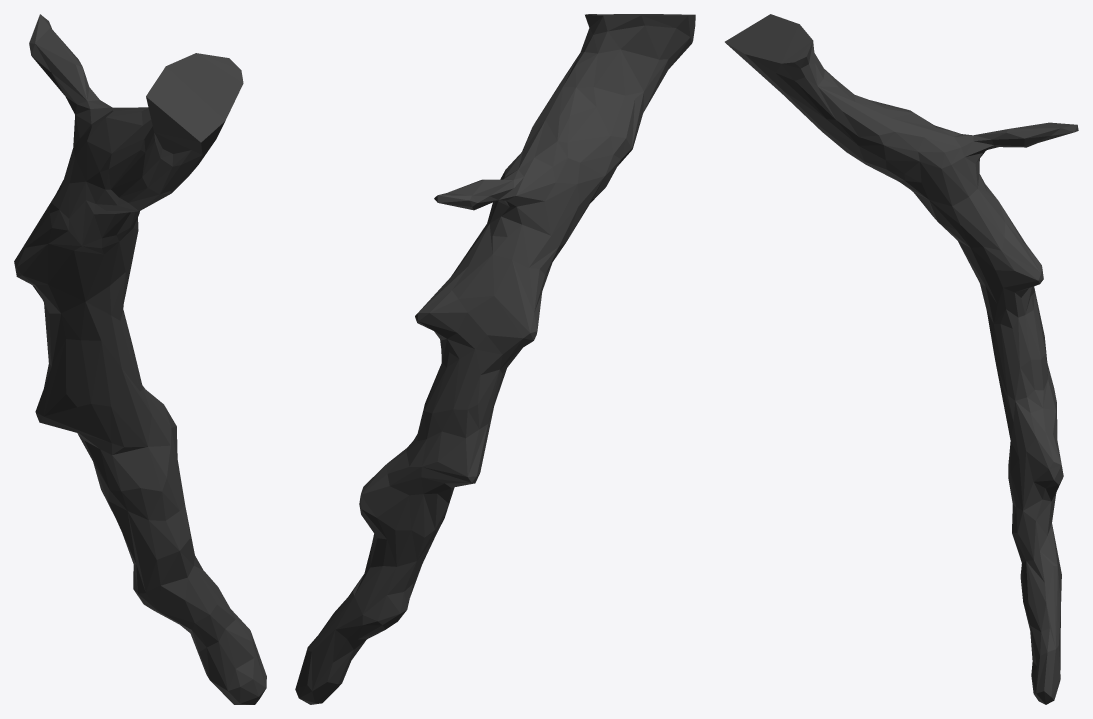
The model's file is Right_middle_lobe_bronchus_1.glb.
3 views of the same model, side by side, from view 1: azimuth 30°, elevation 25°; view 2: azimuth 150°, elevation 25°; view 3: azimuth 270°, elevation 25° (orthographic). The views are drawn at different scales.
Visible parts, largest first — view 1: Right_middle_lobe_bronchus_1; view 2: Right_middle_lobe_bronchus_1; view 3: Right_middle_lobe_bronchus_1.
Part boxes in pixels (bbox=[...]): Right_middle_lobe_bronchus_1: bbox=[14, 14, 266, 704]; Right_middle_lobe_bronchus_1: bbox=[295, 14, 695, 704]; Right_middle_lobe_bronchus_1: bbox=[725, 14, 1078, 704].
Bounding box in the file's own units: 0.9665 × 2.44 × 1.33.
1 material, 1 textured.
